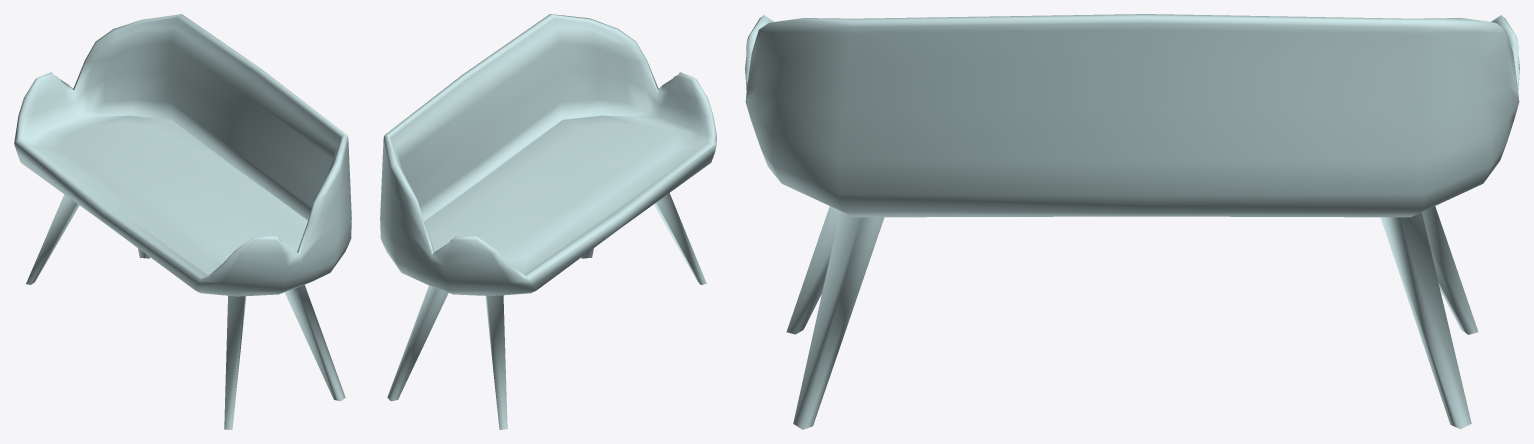
File: bench-LOD1.fbx
3 views of the same model, side by side, from view 1: azimuth 30°, elevation 25°; view 2: azimuth 150°, elevation 25°; view 3: azimuth 270°, elevation 25° (orthographic). The views are drawn at different scales.
Visible parts, largest first — view 1: 2p-bench-low; view 2: 2p-bench-low; view 3: 2p-bench-low.
Part boxes in pixels (bbox=[...]): 2p-bench-low: bbox=[14, 14, 351, 429]; 2p-bench-low: bbox=[380, 14, 716, 429]; 2p-bench-low: bbox=[745, 14, 1519, 429].
Bounding box in the file's own units: 63.08 × 93.39 × 154.
